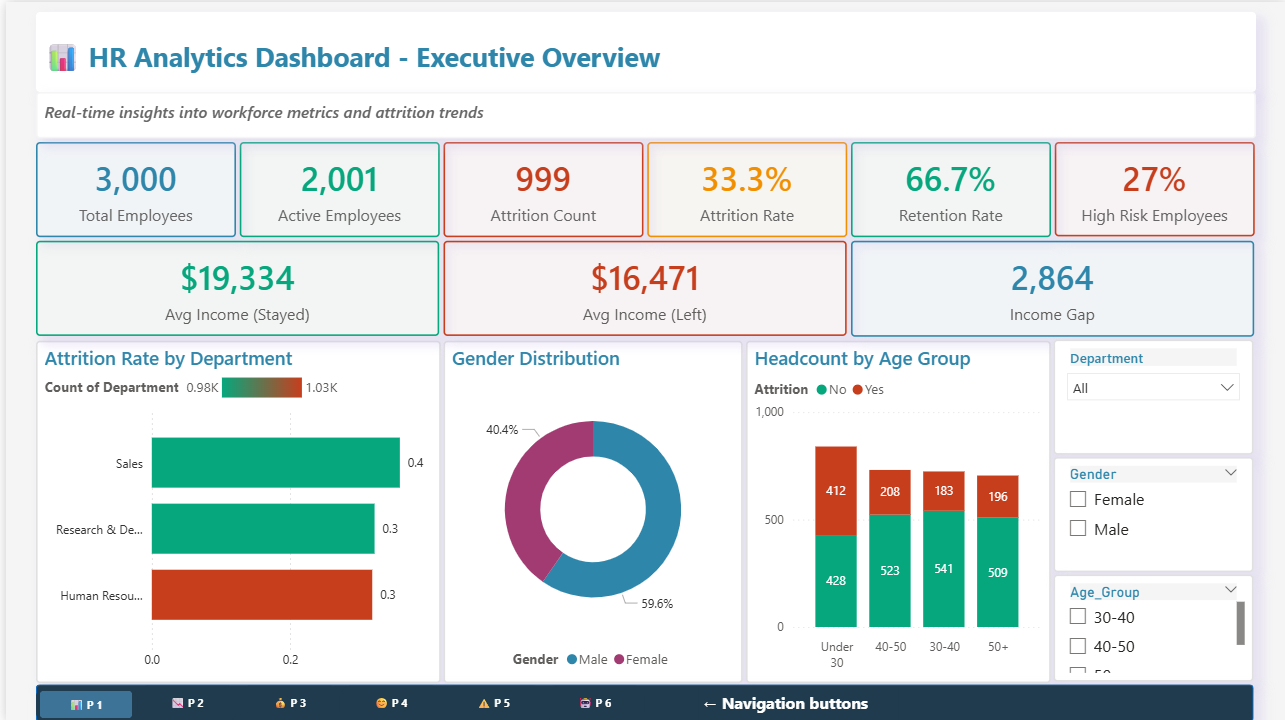

The dashboard page shown, as its layout file describes it:
{"tool":"powerbi","page":{"name":"Executive Overview","canvas":[1280,720],"ordinal":0},"visuals":[{"type":"card","fields":{"Values":["01. Basic KPIs.Total Employees"]},"box":[30,139.7,200,95],"z":0},{"type":"textbox","box":[30,10,1220,79.6],"z":1000},{"type":"card","fields":{"Values":["01. Basic KPIs.Active Employees"]},"box":[233.7,139.7,200,95],"z":2000},{"type":"card","fields":{"Values":["01. Basic KPIs.Attrition Count"]},"box":[437.4,139.7,200,95],"z":3000},{"type":"card","fields":{"Values":["01. Basic KPIs.Attrition Rate"]},"box":[641,139.7,200,95],"z":4000},{"type":"card","fields":{"Values":["01. Basic KPIs.Retention Rate"]},"box":[844.7,139.7,200,95],"z":5000},{"type":"card","fields":{"Values":["06. Risk Analysis.% High Risk"]},"box":[1048.4,140.2,200,94.6],"z":6000},{"type":"clusteredBarChart","title":"Attrition Rate by Department","fields":{"Category":["HR_Analytics_Enhanced.Department"],"Y":["10. Department Analysis.Dept Attrition Rate"]},"box":[30.3,338.4,405,342],"z":7000},{"type":"donutChart","title":"Gender Distribution","fields":{"Category":["HR_Analytics_Enhanced.Gender"],"Y":["01. Basic KPIs.Total Employees"]},"box":[437.9,338.6,299.5,342],"z":8000},{"type":"columnChart","title":"Headcount by Age Group","fields":{"Category":["HR_Analytics_Enhanced.Age_Group"],"Series":["HR_Analytics_Enhanced.Attrition"],"Y":["01. Basic KPIs.Total Employees"]},"box":[740.3,338.6,305,342],"z":9000},{"type":"card","fields":{"Values":["03. Compensation Analysis.Avg Income Stayed"]},"box":[29.7,238.7,403,95],"z":10000},{"type":"card","fields":{"Values":["03. Compensation Analysis.Avg Income Left"]},"box":[437.2,238.7,403,95],"z":11000},{"type":"card","fields":{"Values":["03. Compensation Analysis.Income Difference"]},"box":[844.7,238.4,403,95.8],"z":12000},{"type":"slicer","fields":{"Values":["HR_Analytics_Enhanced.Department"]},"box":[1047.2,338,200,115],"z":13000},{"type":"slicer","fields":{"Values":["HR_Analytics_Enhanced.Gender"]},"box":[1047.5,455,200,115],"z":14000},{"type":"slicer","fields":{"Values":["HR_Analytics_Enhanced.Age_Group"]},"box":[1047.5,572.5,200,107.5],"z":15000},{"type":"textbox","box":[30,90,1220,46.2],"z":16000},{"type":"shape","box":[30,682.5,1217.5,37.5],"z":23000},{"type":"textbox","box":[692.5,685,200,33],"z":24000},{"type":"actionButton","box":[30,685,100,35],"z":24500},{"type":"actionButton","box":[131.8,684,100,35],"z":25000},{"type":"actionButton","box":[233.5,684,100,35],"z":25500},{"type":"actionButton","box":[335.2,684,100,35],"z":26000},{"type":"actionButton","box":[437,684,100,35],"z":26500},{"type":"actionButton","box":[538.8,683.8,100,35],"z":27000}]}

Visuals, with their boxes on the page's 1280x720 design canvas (x1, y1, x2, y2). These are canvas units, not pixel positions in the 1285x720 screenshot, which may show the page scaled, cropped or inside an application window:
card - 01. Basic KPIs.Total Employees: detection(30, 140, 230, 235)
textbox: detection(30, 10, 1250, 90)
card - 01. Basic KPIs.Active Employees: detection(234, 140, 434, 235)
card - 01. Basic KPIs.Attrition Count: detection(437, 140, 637, 235)
card - 01. Basic KPIs.Attrition Rate: detection(641, 140, 841, 235)
card - 01. Basic KPIs.Retention Rate: detection(845, 140, 1045, 235)
card - 06. Risk Analysis.% High Risk: detection(1048, 140, 1248, 235)
"Attrition Rate by Department" clusteredBarChart: detection(30, 338, 435, 680)
"Gender Distribution" donutChart: detection(438, 339, 737, 681)
"Headcount by Age Group" columnChart: detection(740, 339, 1045, 681)
card - 03. Compensation Analysis.Avg Income Stayed: detection(30, 239, 433, 334)
card - 03. Compensation Analysis.Avg Income Left: detection(437, 239, 840, 334)
card - 03. Compensation Analysis.Income Difference: detection(845, 238, 1248, 334)
slicer - HR_Analytics_Enhanced.Department: detection(1047, 338, 1247, 453)
slicer - HR_Analytics_Enhanced.Gender: detection(1048, 455, 1248, 570)
slicer - HR_Analytics_Enhanced.Age_Group: detection(1048, 572, 1248, 680)
textbox: detection(30, 90, 1250, 136)
shape: detection(30, 682, 1248, 720)
textbox: detection(692, 685, 892, 718)
actionButton: detection(30, 685, 130, 720)
actionButton: detection(132, 684, 232, 719)
actionButton: detection(234, 684, 334, 719)
actionButton: detection(335, 684, 435, 719)
actionButton: detection(437, 684, 537, 719)
actionButton: detection(539, 684, 639, 719)
